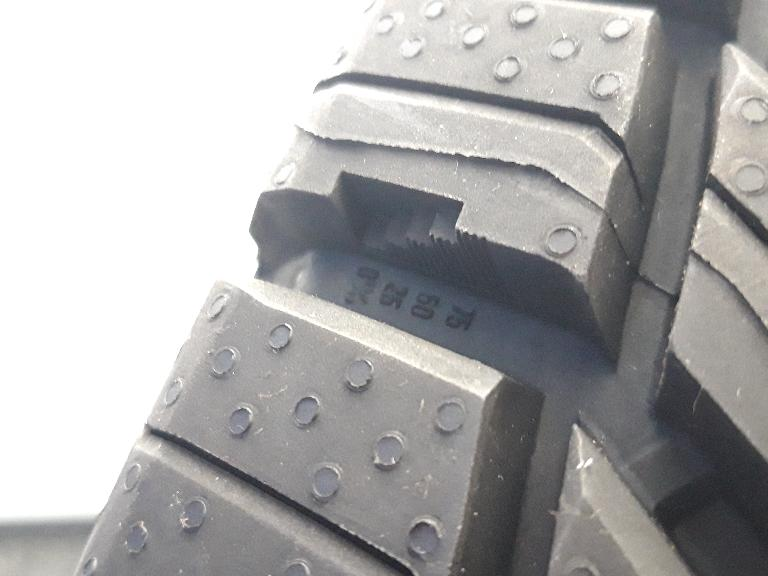temoin:100: (320, 164, 502, 312)
